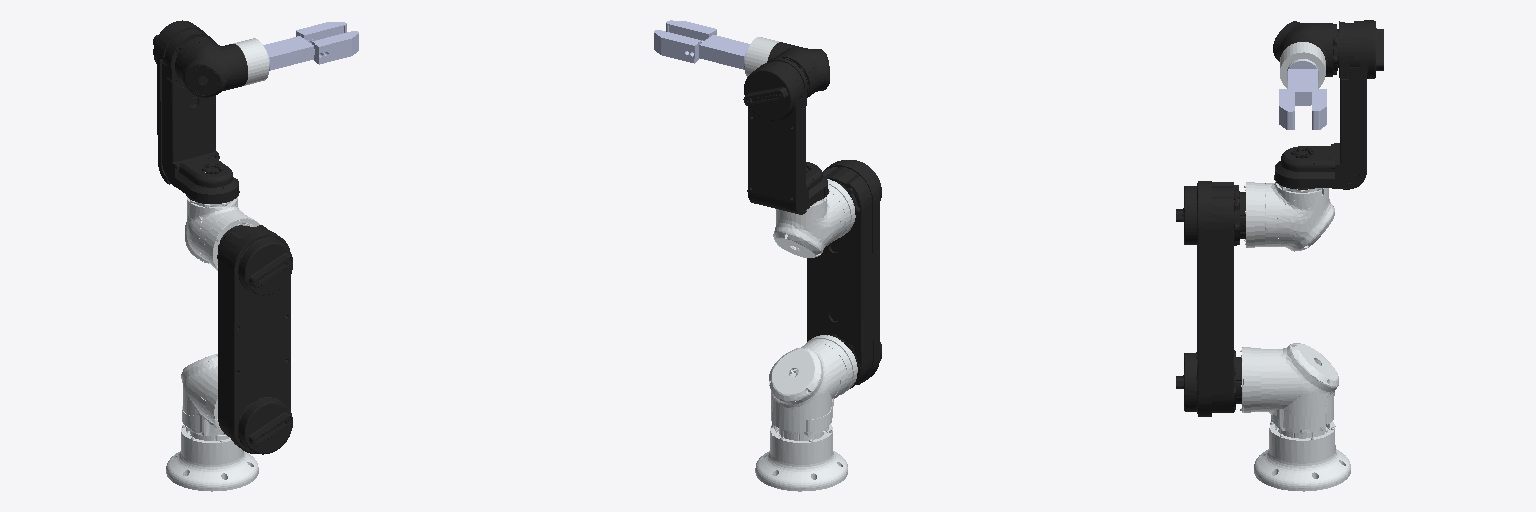
URDF robot description (owl_robot):
<?xml version="1.0" ?>
<!-- =================================================================================== -->
<!-- |    This document was autogenerated by xacro from [local-path]/orangewood_ws/src/orangewood_simstack/owl/owl_description/urdf/6.5/robot_pneumatic.xacro | -->
<!-- |    EDITING THIS FILE BY HAND IS NOT RECOMMENDED                                 | -->
<!-- =================================================================================== -->
<robot name="owl_robot">
    <!-- Macro of OWL 6.5 without any end effector -->
    <link name="world" />
    <joint name="virtual_joint" type="fixed">
        <origin rpy="0 0 0" xyz="0.0 0.0 0.0" />
        <parent link="world" />
        <child link="base_link" />
    </joint>
    <link name="base_link">
        <inertial>
            <origin rpy="0 0 0" xyz="2.7395E-05 -0.01813 4.3722E-05" />
            <mass value="2.39" />
            <inertia ixx="0.0060063" ixy="-2.5541E-15" ixz="-2.5603E-07" iyy="0.0095451" iyz="5.1619E-15" izz="0.006006" />
        </inertial>
        <visual>
            <origin rpy="0 0 0" xyz="0 0 0" />
            <geometry>
                <mesh filename="package://owl_description/meshes/6.5/visual/owl_robot/base_link.stl" />
            </geometry>
            <material name="">
                <color rgba="0.89804 0.91765 0.92941 1" />
            </material>
        </visual>
        <collision>
            <origin rpy="0 0 0" xyz="0 0 0" />
            <geometry>
                <mesh filename="package://owl_description/meshes/6.5/collision/owl_robot/base_link.stl" />
            </geometry>
        </collision>
    </link>
    <link name="shoulder_link">
        <inertial>
            <origin rpy="0 0 0" xyz="0.00042134 0.034391 -0.10382" />
            <mass value="4.613" />
            <inertia ixx="0.0035279" ixy="-5.6452E-06" ixz="-9.4882E-07" iyy="0.0046955" iyz="0.00045199" izz="0.0048177" />
        </inertial>
        <visual>
            <origin rpy="0 0 0" xyz="0 0 0" />
            <geometry>
                <mesh filename="package://owl_description/meshes/6.5/visual/owl_robot/shoulder_link.stl" />
            </geometry>
            <material name="">
                <color rgba="0.89804 0.91765 0.92941 1" />
            </material>
        </visual>
        <collision>
            <origin rpy="0 0 0" xyz="0 0 0" />
            <geometry>
                <mesh filename="package://owl_description/meshes/6.5/collision/owl_robot/shoulder_link.stl" />
            </geometry>
        </collision>
    </link>
    <joint name="BJ" type="revolute">
        <origin rpy="-3.1416 0 0" xyz="0 0 0" />
        <parent link="base_link" />
        <child link="shoulder_link" />
        <axis xyz="0 0 1" />
        <limit effort="500" lower="-3.14" upper="3.14" velocity="50" />
    </joint>
    <link name="link1">
        <inertial>
            <origin rpy="0 0 0" xyz=" 0.17795 0.00011012 -0.085428" />
            <mass value="9.431" />
            <inertia ixx="0.0052455" ixy="1.4977E-05" ixz="2.6778E-05" iyy="0.028778" iyz="-3.8624E-06" izz="0.032177" />
        </inertial>
        <visual>
            <origin rpy="0 0 0" xyz="0 0 0" />
            <geometry>
                <mesh filename="package://owl_description/meshes/6.5/visual/owl_robot/link1.stl" />
            </geometry>
            <material name="">
                <color rgba="0.2 0.2 0.2 1.0" />
            </material>
        </visual>
        <collision>
            <origin rpy="0 0 0" xyz="0 0 0" />
            <geometry>
                <mesh filename="package://owl_description/meshes/6.5/collision/owl_robot/link1.stl" />
            </geometry>
        </collision>
    </link>
    <joint name="SJ" type="revolute">
        <origin rpy="0.58944 1.5675 -0.983" xyz="0.00018339 0.066603 -0.1405" />
        <parent link="shoulder_link" />
        <child link="link1" />
        <axis xyz="0.0027142 -0.0011243 1" />
        <limit effort="500" lower="-1.6" upper="1.6" velocity="50" />
    </joint>
    <link name="elbow_link">
        <inertial>
            <origin rpy="0 0 0" xyz="0.00023616 -0.028792 -0.029823" />
            <mass value="4.613" />
            <inertia ixx="0.0023499" ixy="-2.7675E-06" ixz="-4.1087E-07" iyy="0.0030181" iyz="-0.00026183" izz="0.0035661" />
        </inertial>
        <visual>
            <origin rpy="0 0 0" xyz="0 0 0" />
            <geometry>
                <mesh filename="package://owl_description/meshes/6.5/visual/owl_robot/elbow_link.stl" />
            </geometry>
            <material name="">
                <color rgba="0.89804 0.91765 0.92941 1" />
            </material>
        </visual>
        <collision>
            <origin rpy="0 0 0" xyz="0 0 0" />
            <geometry>
                <mesh filename="package://owl_description/meshes/6.5/collision/owl_robot/elbow_link.stl" />
            </geometry>
        </collision>
    </link>
    <joint name="EJ" type="revolute">
        <origin rpy="3.1389 -0.0018334 -1.5781" xyz="0.35575 0 -0.00096557" />
        <parent link="link1" />
        <child link="elbow_link" />
        <axis xyz="0 0 1" />
        <limit effort="500" lower="-2.8" upper="3.14" velocity="50" />
    </joint>
    <link name="link2">
        <inertial>
            <origin rpy="0 0 0" xyz="0.00015054 -0.075078 0.13834" />
            <mass value="2.4407" />
            <inertia ixx="0.009134" ixy="-3.9978E-06" ixz="-4.8015E-06" iyy="0.010823" iyz="0.00068065" izz="0.0041094" />
        </inertial>
        <visual>
            <origin rpy="0 0 0" xyz="0 0 0" />
            <geometry>
                <mesh filename="package://owl_description/meshes/6.5/visual/owl_robot/link2.stl" />
            </geometry>
            <material name="">
                <color rgba="0.2 0.2 0.2 1.0" />
            </material>
        </visual>
        <collision>
            <origin rpy="0 0 0" xyz="0 0 0" />
            <geometry>
                <mesh filename="package://owl_description/meshes/6.5/collision/owl_robot/link2.stl" />
            </geometry>
        </collision>
    </link>
    <joint name="W1J" type="revolute">
        <origin rpy="1.5708 -0.0023608 0" xyz="0.00019567 -0.079361 -0.066603" />
        <parent link="elbow_link" />
        <child link="link2" />
        <axis xyz="0 0 -1" />
        <limit effort="500" lower="-2.84489" upper="2.84489" velocity="50" />
    </joint>
    <link name="w2w3_link">
        <inertial>
            <origin rpy="0 0 0" xyz="0.00025923 0.029764 0.027271" />
            <mass value="3.118" />
            <inertia ixx="0.0014884" ixy="2.1526E-06" ixz="6.6731E-06" iyy="0.0016882" iyz="0.0001816" izz="0.0019291" />
        </inertial>
        <visual>
            <origin rpy="0 0 0" xyz="0 0 0" />
            <geometry>
                <mesh filename="package://owl_description/meshes/6.5/visual/owl_robot/w2w3_link.stl" />
            </geometry>
            <material name="">
                <color rgba="0.2 0.2 0.2 1.0" />
            </material>
        </visual>
        <collision>
            <origin rpy="0 0 0" xyz="0 0 0" />
            <geometry>
                <mesh filename="package://owl_description/meshes/6.5/collision/owl_robot/w2w3_link.stl" />
            </geometry>
        </collision>
    </link>
    <joint name="W2J" type="revolute">
        <origin rpy="2.745 -1.5667 -1.1726" xyz="0 0 0.27639" />
        <parent link="link2" />
        <child link="w2w3_link" />
        <axis xyz="0.0037507 -0.00083382 0.99999" />
        <limit effort="500" lower="-1.6" upper="0.78" velocity="50" />
        <safety_controller k_position="100" k_velocity="1.5" soft_lower_limit="-1.857" soft_upper_limit="0.8" />
    </joint>
    <link name="end_effector_link">
        <inertial>
            <origin rpy="0 0 0" xyz="2.2451E-05 -0.00060487 0.098537" />
            <mass value="0.188" />
            <inertia ixx="0.00017935" ixy="-3.2299E-08" ixz="-2.1374E-07" iyy="0.00017907" iyz="-4.545E-07" izz="0.00025742" />
        </inertial>
        <visual>
            <origin rpy="0 0 0" xyz="0 0 0" />
            <geometry>
                <mesh filename="package://owl_description/meshes/6.5/visual/owl_robot/end_effector_link.stl" />
            </geometry>
            <material name="">
                <color rgba="0.89804 0.91765 0.92941 1" />
            </material>
        </visual>
        <collision>
            <origin rpy="0 0 0" xyz="0 0 0" />
            <geometry>
                <mesh filename="package://owl_description/meshes/6.5/collision/owl_robot/end_effector_link.stl" />
            </geometry>
        </collision>
    </link>
    <joint name="W3J" type="revolute">
        <origin rpy="-1.2578 -1.5668 -0.31786" xyz="0 0 0" />
        <limit effort="500" lower="-3.1" upper="3.1" velocity="50" />
        <parent link="w2w3_link" />
        <child link="end_effector_link" />
        <axis xyz="0 0 1" />
    </joint>
    <link name="tcp">
        <inertial>
            <origin rpy="0 0 0" xyz="0 0 0" />
            <mass value="1e-9" />
            <inertia ixx="0" ixy="0" ixz="0" iyy="0" iyz="0" izz="0" />
        </inertial>
    </link>
    <joint name="tcp_frame" type="fixed">
        <origin rpy="5.94633e-15 -1.33504e-14 -1.5708" xyz="4.33681e-19 0 0.1225" />
        <parent link="end_effector_link" />
        <child link="tcp" />
        <axis xyz="0 0 0" />
    </joint>
    <link name="pnt_gripper">
        <visual>
            <origin rpy="0 1.57 1.57" xyz="0.034 -0.047 0.21" />
            <geometry>
                <mesh filename="package://owl_description/meshes/grippers/pneumatic/pneumatic.stl" scale="0.001 0.001 0.001" />
            </geometry>
            <material name="">
                <color rgba="0.79216 0.81961 0.93333 1" />
            </material>
        </visual>
        <collision>
            <origin rpy="0 1.57 1.57" xyz="0.034 -0.047 0.21" />
            <geometry>
                <mesh filename="package://owl_description/meshes/grippers/pneumatic/pneumatic.stl" scale="0.001 0.001 0.001" />
            </geometry>
        </collision>
        <inertial>
            <mass value="0.1" />
            <origin xyz="0 0 0" rpy="0 0 0" />
            <inertia ixx="0.03" iyy="0.03" izz="0.03" ixy="0.0" ixz="0.0" iyz="0.0" />
        </inertial>
    </link>
    <joint name="gripper_holder_joint" type="fixed">
        <origin rpy="0 0 0" xyz="0.0 0.0 0.0" />
        <parent link="tcp" />
        <child link="pnt_gripper" />
        <axis xyz="0 0 0" />
    </joint>
    <transmission name="trans_BJ">
        <type>transmission_interface/SimpleTransmission</type>
        <joint name="BJ">
            <hardwareInterface>hardware_interface/PositionJointInterface</hardwareInterface>
        </joint>
        <actuator name="BJ_motor">
            <hardwareInterface>hardware_interface/PositionJointInterface</hardwareInterface>
            <mechanicalReduction>1</mechanicalReduction>
        </actuator>
    </transmission>
    <transmission name="trans_SJ">
        <type>transmission_interface/SimpleTransmission</type>
        <joint name="SJ">
            <hardwareInterface>hardware_interface/PositionJointInterface</hardwareInterface>
        </joint>
        <actuator name="SJ_motor">
            <hardwareInterface>hardware_interface/PositionJointInterface</hardwareInterface>
            <mechanicalReduction>1</mechanicalReduction>
        </actuator>
    </transmission>
    <transmission name="trans_EJ">
        <type>transmission_interface/SimpleTransmission</type>
        <joint name="EJ">
            <hardwareInterface>hardware_interface/PositionJointInterface</hardwareInterface>
        </joint>
        <actuator name="EJ_motor">
            <hardwareInterface>hardware_interface/PositionJointInterface</hardwareInterface>
            <mechanicalReduction>1</mechanicalReduction>
        </actuator>
    </transmission>
    <transmission name="trans_W1J">
        <type>transmission_interface/SimpleTransmission</type>
        <joint name="W1J">
            <hardwareInterface>hardware_interface/PositionJointInterface</hardwareInterface>
        </joint>
        <actuator name="W1J_motor">
            <hardwareInterface>hardware_interface/PositionJointInterface</hardwareInterface>
            <mechanicalReduction>1</mechanicalReduction>
        </actuator>
    </transmission>
    <transmission name="trans_W2J">
        <type>transmission_interface/SimpleTransmission</type>
        <joint name="W2J">
            <hardwareInterface>hardware_interface/PositionJointInterface</hardwareInterface>
        </joint>
        <actuator name="W2J_motor">
            <hardwareInterface>hardware_interface/PositionJointInterface</hardwareInterface>
            <mechanicalReduction>1</mechanicalReduction>
        </actuator>
    </transmission>
    <transmission name="trans_W3J">
        <type>transmission_interface/SimpleTransmission</type>
        <joint name="W3J">
            <hardwareInterface>hardware_interface/PositionJointInterface</hardwareInterface>
        </joint>
        <actuator name="W3J_motor">
            <hardwareInterface>hardware_interface/PositionJointInterface</hardwareInterface>
            <mechanicalReduction>1</mechanicalReduction>
        </actuator>
    </transmission>
    <gazebo>
        <plugin name="gazebo_ros_control" filename="libgazebo_ros_control.so">
            <robotNamespace>/</robotNamespace>
        </plugin>
    </gazebo>
</robot>

--- Facts derived from the render (not from the file) ---
The picture shows the robot from 3 angles, left to right: view 1: azimuth 30°, elevation 25°; view 2: azimuth 150°, elevation 25°; view 3: azimuth 270°, elevation 25°; orthographic projection.
Robot: owl_robot — 10 links, 9 joints (6 revolute, 3 fixed); root link world; default pose: every joint at zero.
Links seen in each view (by area): view 1: link1, link2, base_link, w2w3_link, pnt_gripper, shoulder_link, elbow_link, end_effector_link; view 2: link1, link2, shoulder_link, base_link, elbow_link, pnt_gripper, w2w3_link, end_effector_link; view 3: link1, link2, shoulder_link, elbow_link, base_link, pnt_gripper, w2w3_link, end_effector_link.
Link boxes in pixels (bbox=[...]): link1: bbox=[217, 225, 292, 454]; link2: bbox=[153, 20, 239, 203]; base_link: bbox=[166, 425, 258, 491]; w2w3_link: bbox=[175, 37, 247, 97]; pnt_gripper: bbox=[263, 22, 358, 70]; shoulder_link: bbox=[181, 354, 229, 440]; elbow_link: bbox=[185, 172, 259, 270]; end_effector_link: bbox=[233, 38, 268, 85]; link1: bbox=[807, 160, 881, 388]; link2: bbox=[743, 57, 828, 214]; shoulder_link: bbox=[769, 335, 857, 440]; base_link: bbox=[755, 424, 847, 491]; elbow_link: bbox=[773, 179, 855, 257]; pnt_gripper: bbox=[654, 20, 749, 69]; w2w3_link: bbox=[767, 42, 829, 97]; end_effector_link: bbox=[745, 37, 778, 76]; link1: bbox=[1176, 181, 1245, 416]; link2: bbox=[1274, 20, 1383, 189]; shoulder_link: bbox=[1240, 343, 1338, 438]; elbow_link: bbox=[1244, 182, 1334, 251]; base_link: bbox=[1254, 421, 1350, 491]; pnt_gripper: bbox=[1279, 60, 1326, 129]; w2w3_link: bbox=[1273, 21, 1338, 76]; end_effector_link: bbox=[1280, 42, 1325, 88].
Size in the robot's own frame: 0.4266 by 0.4074 by 0.964 metres.
Meshes: 8 distinct files referenced, 8 mesh visuals loaded (8 binary STL).
